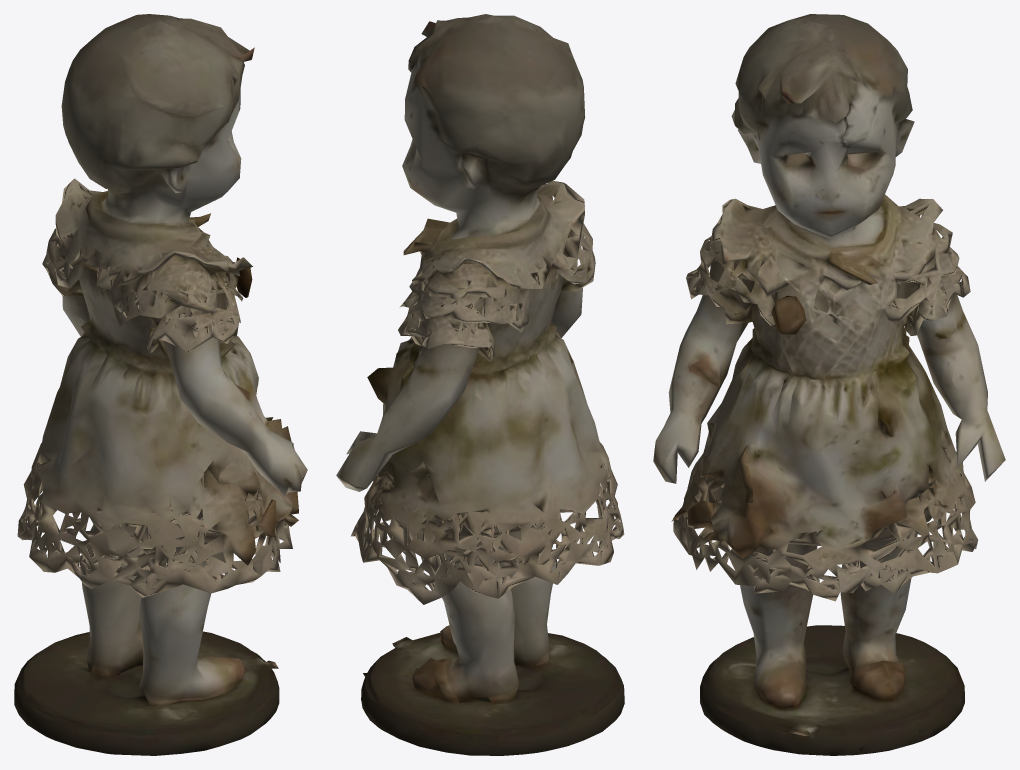
File: doll.glb
The picture shows the model from 3 angles, left to right: view 1: azimuth 30°, elevation 25°; view 2: azimuth 150°, elevation 25°; view 3: azimuth 270°, elevation 25°; orthographic projection.
Visible parts, largest first — view 1: tripo_node_76e7b42a-750a-4df0-92c3-5fd97f92ad79; view 2: tripo_node_76e7b42a-750a-4df0-92c3-5fd97f92ad79; view 3: tripo_node_76e7b42a-750a-4df0-92c3-5fd97f92ad79.
Part boxes in pixels (x1,y1,x2,y2): tripo_node_76e7b42a-750a-4df0-92c3-5fd97f92ad79: [14, 14, 307, 755]; tripo_node_76e7b42a-750a-4df0-92c3-5fd97f92ad79: [336, 14, 624, 755]; tripo_node_76e7b42a-750a-4df0-92c3-5fd97f92ad79: [653, 14, 1005, 755].
Size of the model in its own units: 0.3702 by 1 by 0.4679.
1 material, 1 textured.
